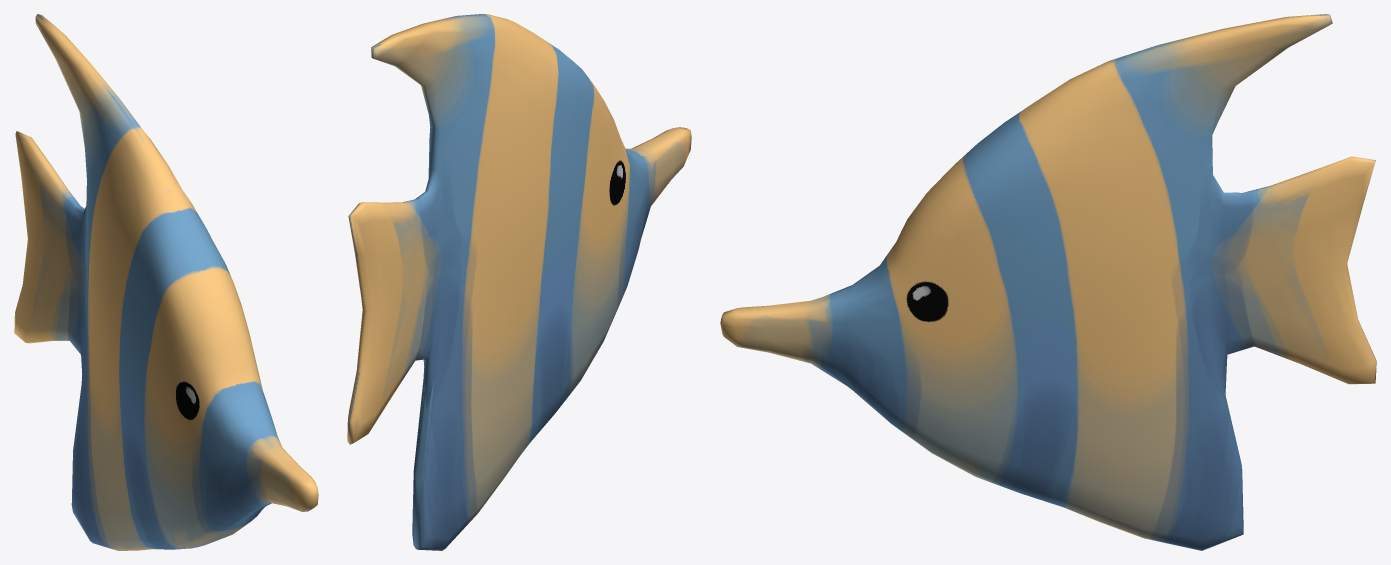
Rendered from tropfish02.fbx.
3 views of the same model, side by side, from view 1: azimuth 30°, elevation 25°; view 2: azimuth 150°, elevation 25°; view 3: azimuth 270°, elevation 25° (orthographic). The views are drawn at different scales.
Visible parts, largest first — view 1: TropFish02; view 2: TropFish02; view 3: TropFish02.
Part boxes in pixels (x1,y1,x2,y2): TropFish02: [14, 14, 318, 550]; TropFish02: [347, 14, 691, 550]; TropFish02: [720, 14, 1376, 550].
Bounding box in the file's own units: 6883 × 42628 × 47382.
1 material, 1 textured.
